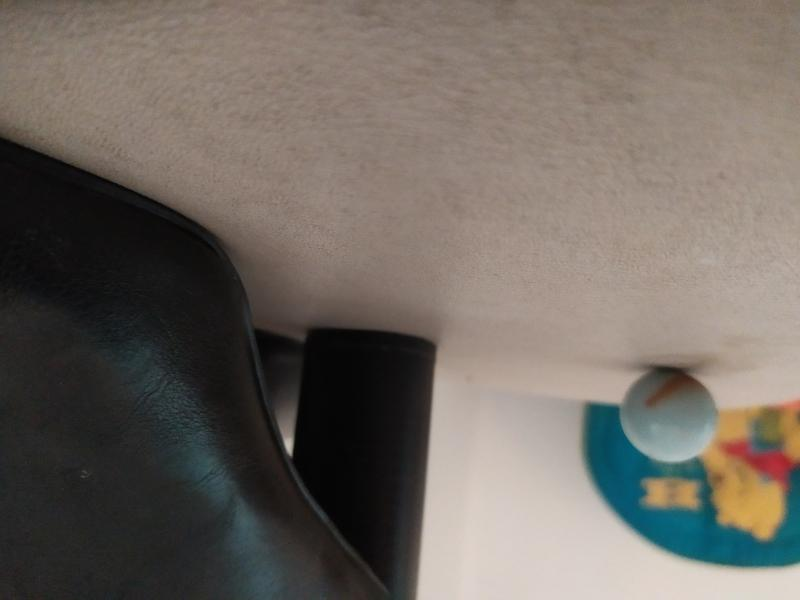Warning: (617, 365, 723, 465)
